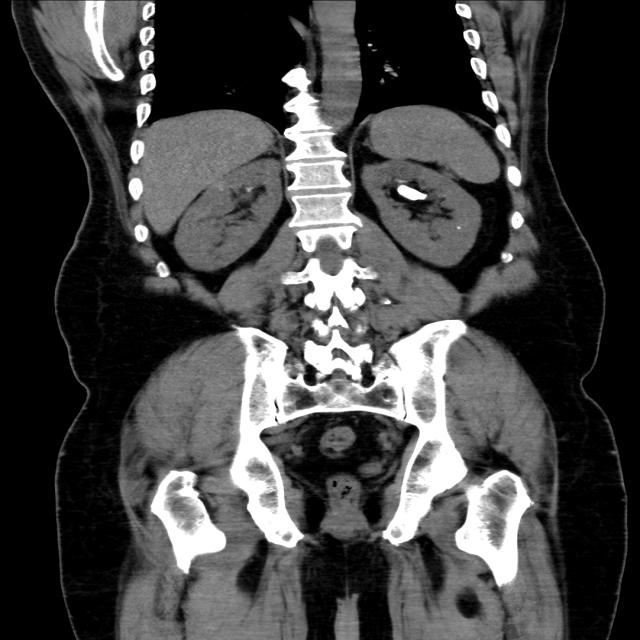kidneystone: (396, 184, 427, 201)
